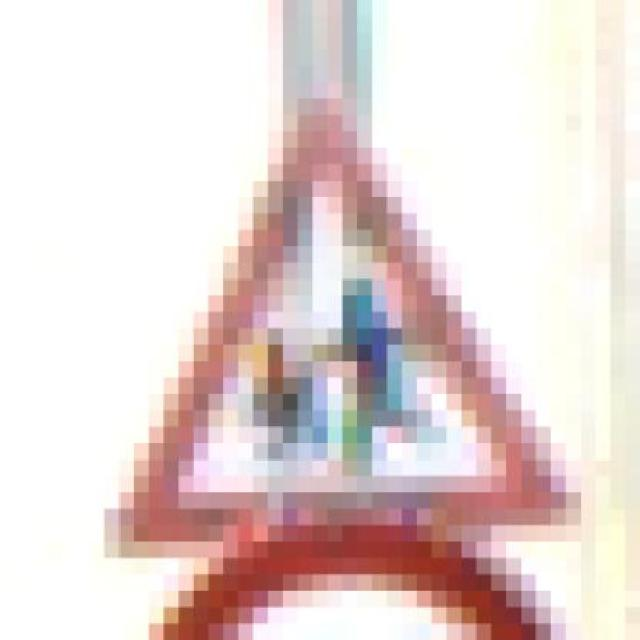Beware of children: (90, 99, 596, 558)
